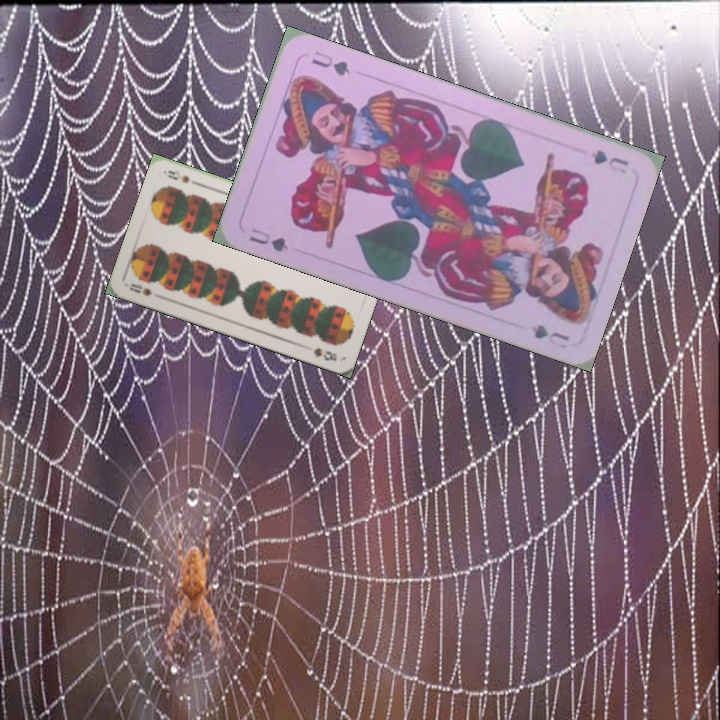GU: (245, 224, 291, 255), (587, 146, 631, 177)
S8: (126, 279, 154, 298)
